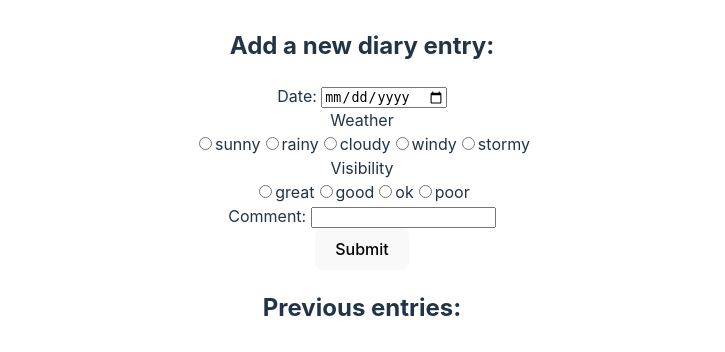
Test: form input validation › proper date without weather throws error
In the date field with test id "date": (384, 98) left=321, top=87, right=447, bottom=108, type "2020-01-20"
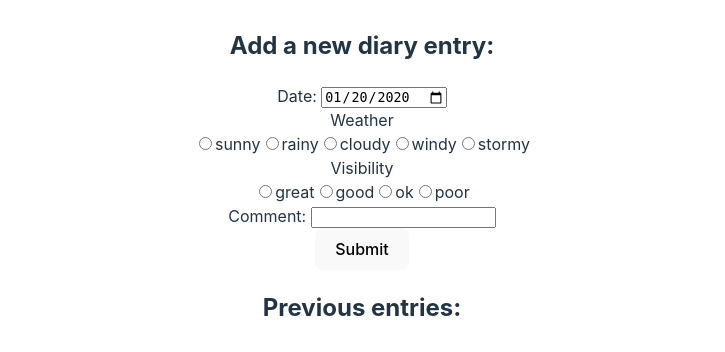
Click the button: (362, 249) left=315, top=228, right=409, bottom=270
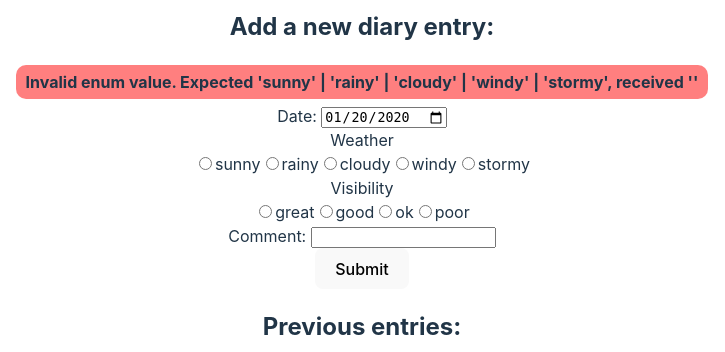
Now the text with test id "errmessage" is shown, box left=26, top=72, right=698, bottom=92
